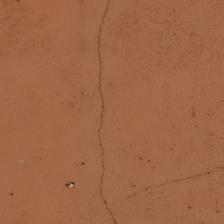Crack: (91, 4, 121, 223)
